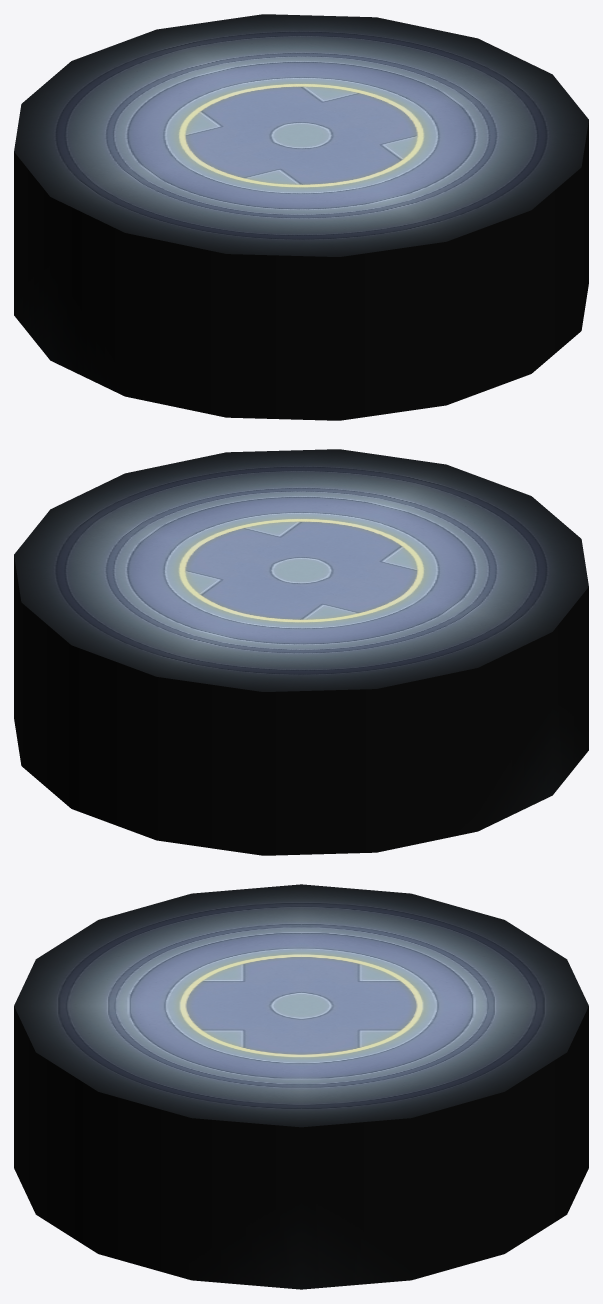
3 views of the same model, one above another, from view 1: azimuth 30°, elevation 25°; view 2: azimuth 150°, elevation 25°; view 3: azimuth 270°, elevation 25° (orthographic).
Visible parts, largest first — view 1: base; view 2: base; view 3: base.
Boxes of the visible parts, box(x1,y1,x2,y2) form: base: box(14, 14, 588, 420); base: box(14, 449, 588, 855); base: box(14, 884, 588, 1289).
Size of the model in its own units: 222 by 68.98 by 222.
